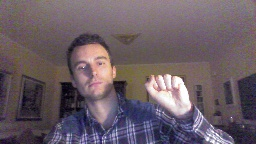Pugno: (142, 72, 193, 117)
